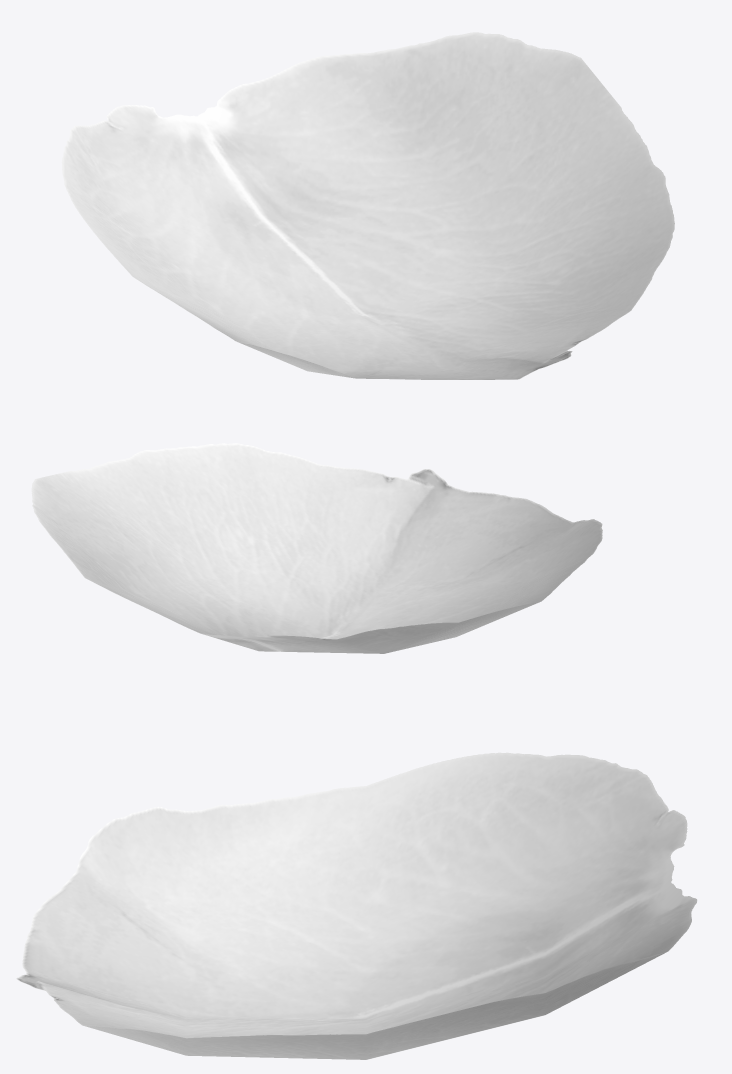
The model's file is Mod_huaban.FBX.
3 views of the same model, one above another, from view 1: azimuth 30°, elevation 25°; view 2: azimuth 150°, elevation 25°; view 3: azimuth 270°, elevation 25° (orthographic). The views are drawn at different scales.
Visible parts, largest first — view 1: Mod_huaban; view 2: Mod_huaban; view 3: Mod_huaban.
Boxes of the visible parts, x1,y1,x2,y2 form: Mod_huaban: [61, 32, 674, 379]; Mod_huaban: [31, 443, 602, 653]; Mod_huaban: [16, 752, 697, 1059].
Size of the model in its own units: 767 by 226 by 767.
Materials: 1 (1 with a texture image).
